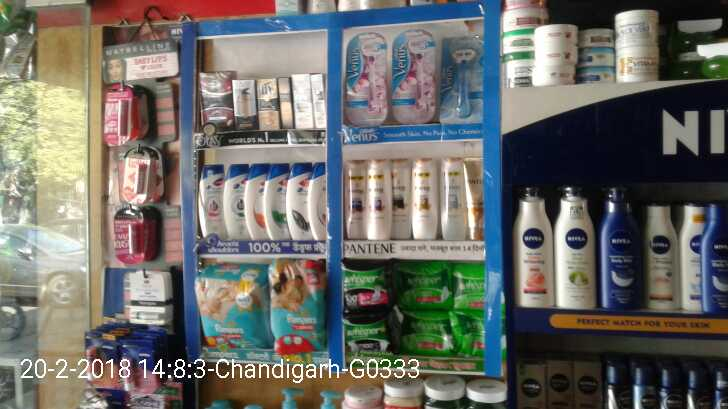venus: (391, 30, 437, 122), (439, 36, 485, 123), (347, 30, 388, 124)
